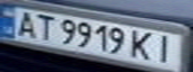1: (90, 23, 109, 53)
9: (106, 25, 130, 56), (54, 16, 78, 46), (72, 19, 93, 49)
A: (9, 8, 42, 38)
I: (151, 33, 184, 65)
K: (127, 28, 157, 62)
T: (30, 11, 57, 42)
